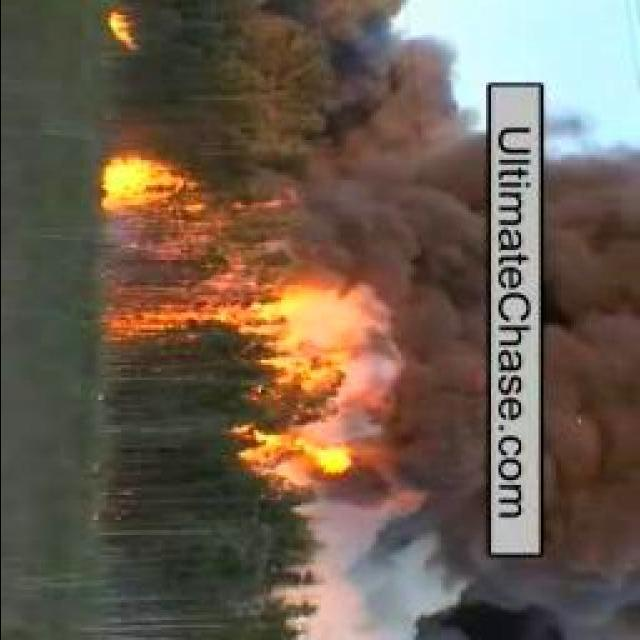Fire: (112, 288, 312, 344), (99, 148, 211, 224), (248, 426, 362, 484), (103, 8, 145, 52)
